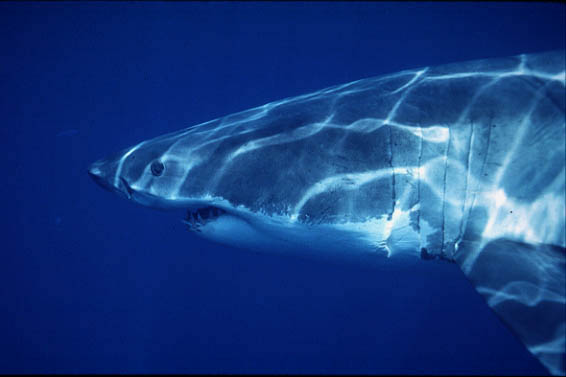Carcharodon_carcharias: (74, 39, 564, 377)
